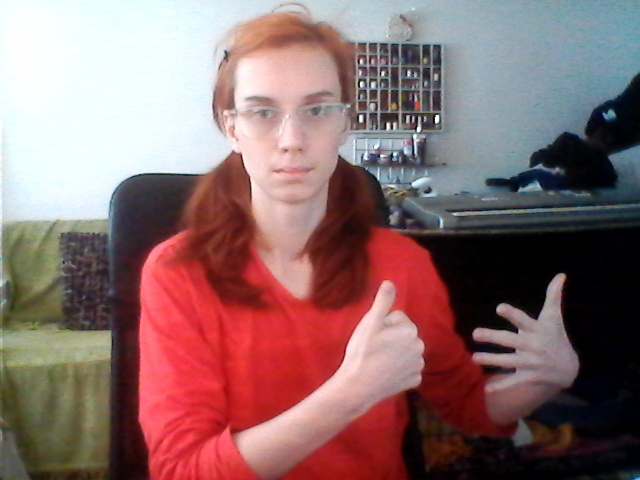sest: (349, 263, 584, 419)
